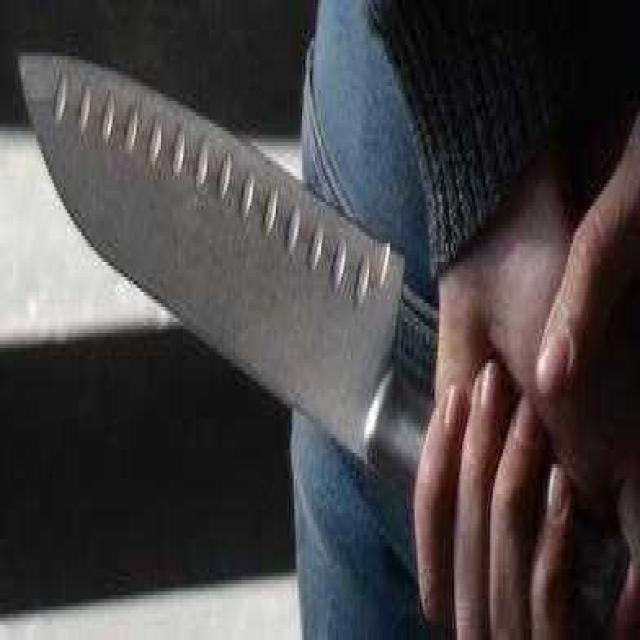Knife: (9, 42, 598, 600)
